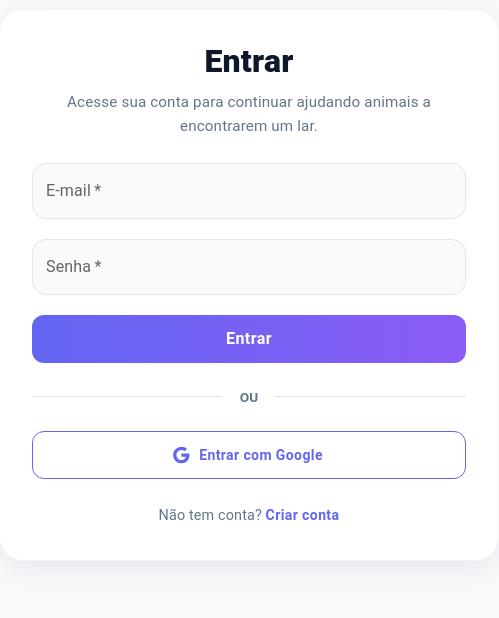
Scenario: Login (page) › rejeição não-Error mostra mensagem de rede genérica
Type "user@exemplo.com" into the field labelled "E-mail *" at [249, 191], box [32, 163, 466, 219]
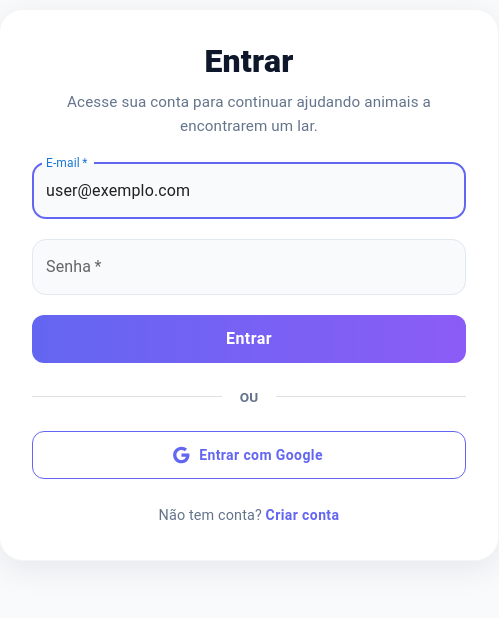
Type "senha123" into the password field labelled "Senha *" at [249, 267], box [32, 239, 466, 295]
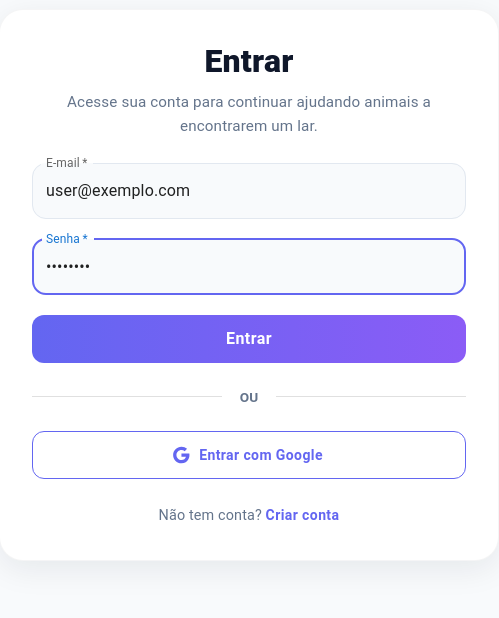
Click the button "Entrar" at [249, 339], box [32, 315, 466, 363]
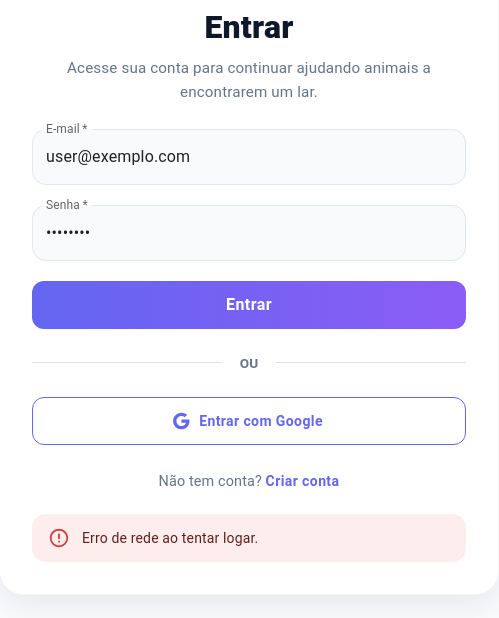
Result: the text "Erro de rede ao tentar logar." is shown at [82, 530, 258, 546]
